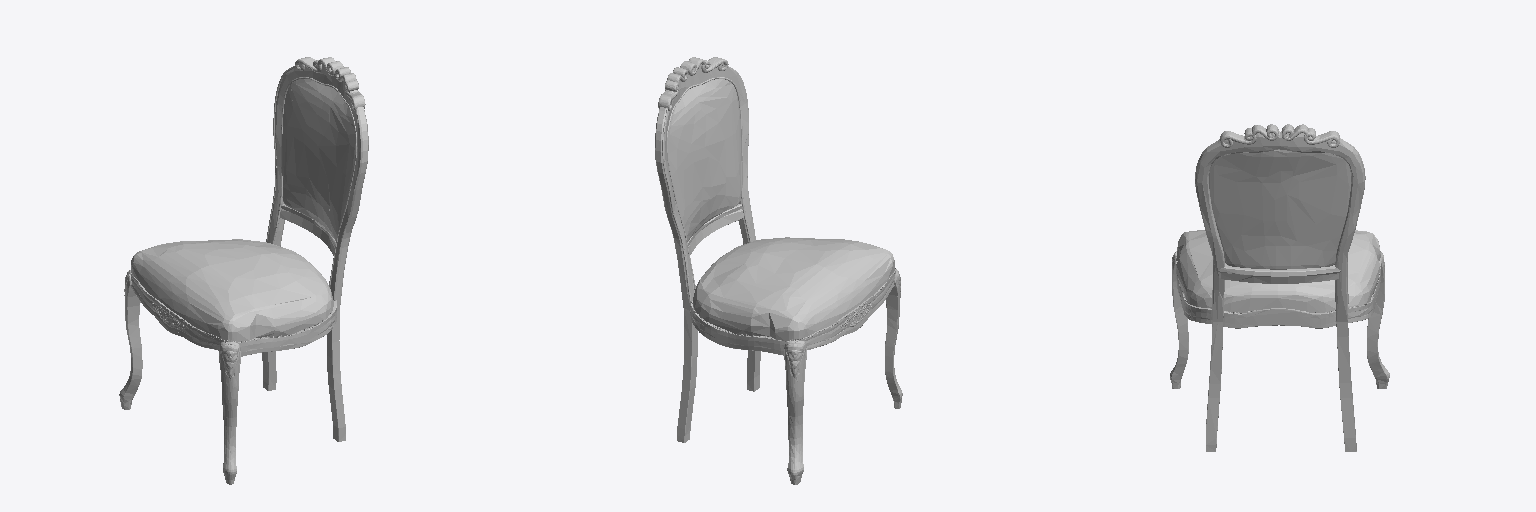
Rendered from 13_8d47cb7b-eff9-46e1-924c-2e33eed6f20c.obj.
3 renders of one model, left to right at view 1: azimuth 30°, elevation 25°; view 2: azimuth 150°, elevation 25°; view 3: azimuth 270°, elevation 25°, orthographic.
Size of the model in its own units: 0.5931 by 1.08 by 0.6313.